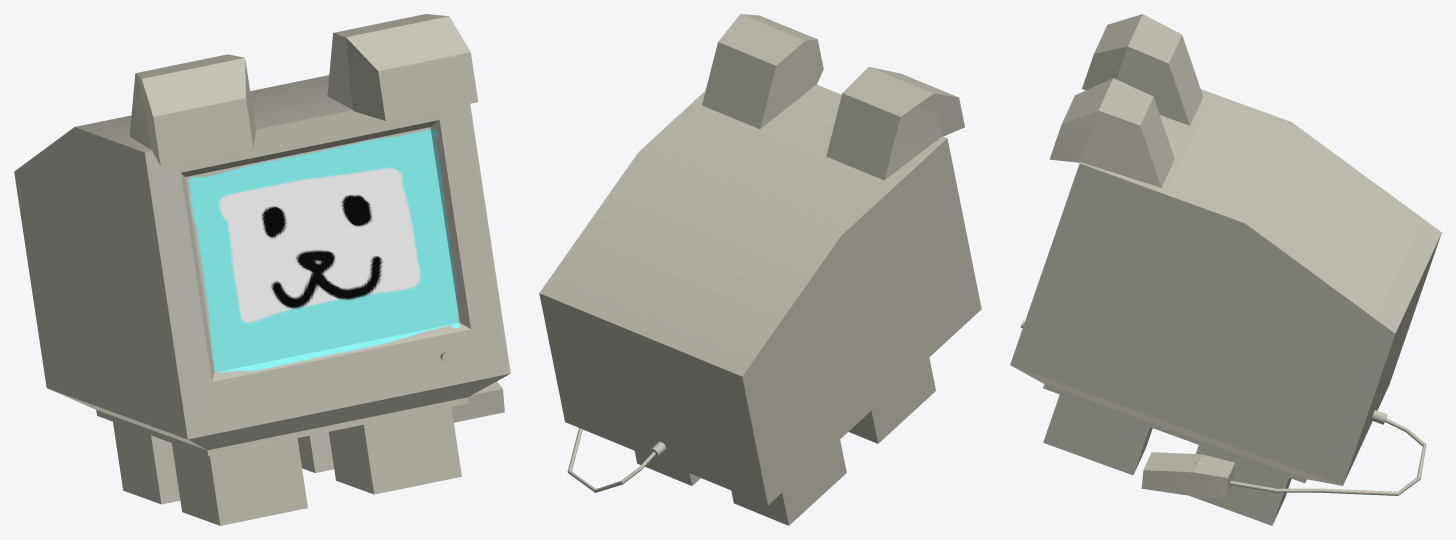
File: wanpaso_color.fbx
3 renders of one model, left to right at view 1: azimuth 30°, elevation 25°; view 2: azimuth 150°, elevation 25°; view 3: azimuth 270°, elevation 25°, orthographic. The views are drawn at different scales.
Parts seen in each view (by area): view 1: node_id7; view 2: node_id7; view 3: node_id7.
Part boxes in pixels (x1,y1,x2,y2): node_id7: (14,14,510,525); node_id7: (539,14,981,525); node_id7: (1010,14,1441,525).
Size of the model in its own units: 0.4783 by 0.6196 by 0.5843.
1 material, 1 textured.
